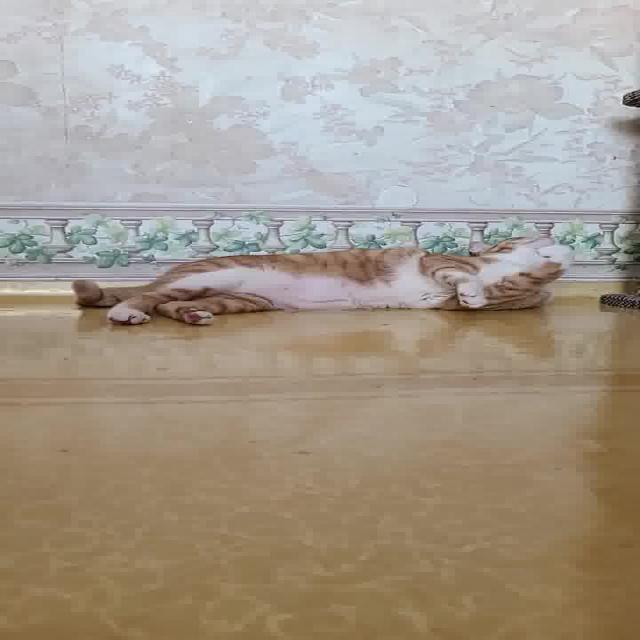cat: (43, 207, 590, 344)
